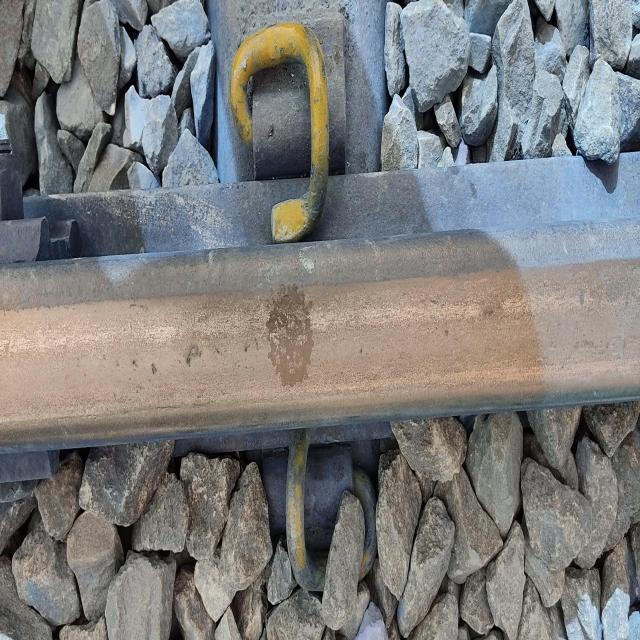Good Fasteners: (225, 0, 364, 244), (234, 443, 383, 619)
